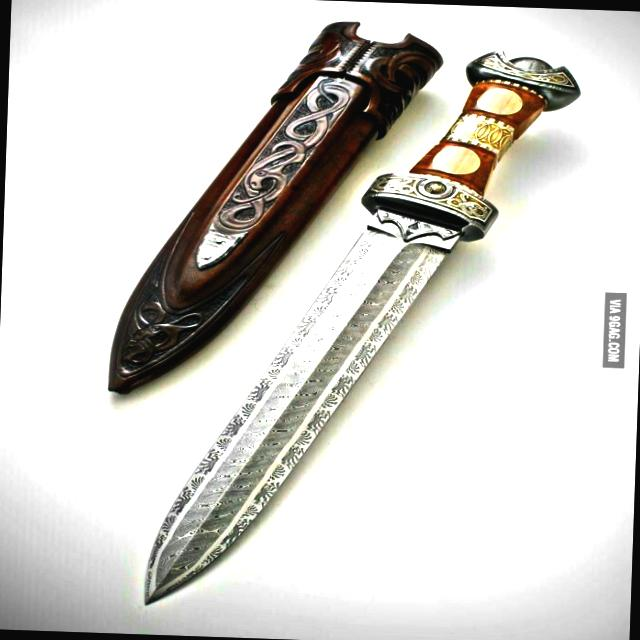short sword: (92, 8, 590, 640)
